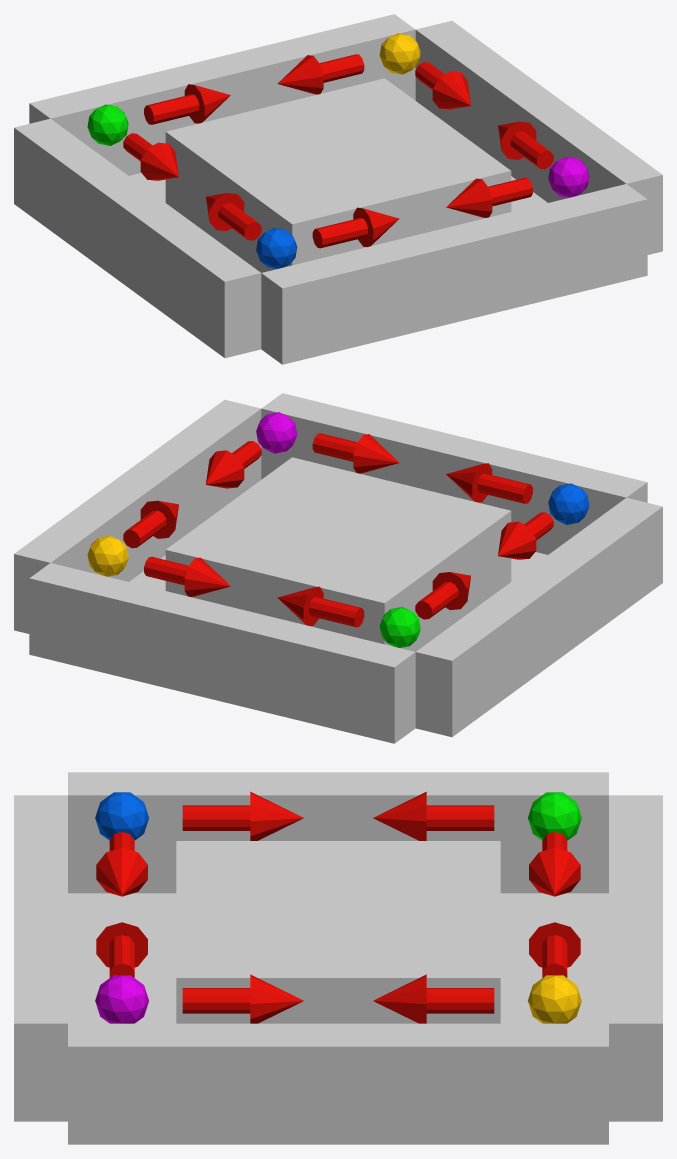
Rendered from testRoom.glb.
The picture shows the model from 3 angles, top to bottom: view 1: azimuth 30°, elevation 25°; view 2: azimuth 150°, elevation 25°; view 3: azimuth 270°, elevation 25°; orthographic projection. The views are drawn at different scales.
Visible parts, largest first — view 1: Cube.001, YellowToGreen, BlueToPink, GreenToYellow, PinkToBlue, BlueToGreen, YellowToPink, GreenToBlue, PinkToYellow, roomBlue, roomGreen, roomYellow (+1 smaller); view 2: Cube.001, PinkToBlue, GreenToYellow, BlueToPink, YellowToGreen, GreenToBlue, PinkToYellow, BlueToGreen, YellowToPink, roomBlue, roomGreen, roomPink (+1 smaller); view 3: Cube.001, BlueToGreen, YellowToPink, GreenToBlue, PinkToYellow, BlueToPink, GreenToYellow, YellowToGreen, PinkToBlue, roomYellow, roomPink, roomBlue (+1 smaller).
Part boxes in pixels (left/top/right/bottom): Cube.001: left=14, top=14, right=662, bottom=364; YellowToGreen: left=277, top=54, right=364, bottom=94; BlueToPink: left=312, top=207, right=399, bottom=248; GreenToYellow: left=144, top=84, right=230, bottom=124; PinkToBlue: left=446, top=177, right=532, bottom=217; BlueToGreen: left=206, top=193, right=261, bottom=240; YellowToPink: left=415, top=62, right=471, bottom=109; GreenToBlue: left=123, top=133, right=178, bottom=180; PinkToYellow: left=498, top=121, right=553, bottom=169; roomBlue: left=256, top=228, right=297, bottom=268; roomGreen: left=87, top=104, right=128, bottom=145; roomYellow: left=379, top=33, right=420, bottom=74; Cube.001: left=14, top=393, right=662, bottom=743; PinkToBlue: left=312, top=433, right=399, bottom=473; GreenToYellow: left=277, top=586, right=364, bottom=627; BlueToPink: left=446, top=463, right=532, bottom=503; YellowToGreen: left=144, top=556, right=230, bottom=596; GreenToBlue: left=415, top=572, right=470, bottom=619; PinkToYellow: left=205, top=441, right=261, bottom=488; BlueToGreen: left=498, top=512, right=553, bottom=559; YellowToPink: left=123, top=500, right=178, bottom=548; roomBlue: left=548, top=483, right=589, bottom=524; roomGreen: left=379, top=607, right=420, bottom=647; roomPink: left=256, top=412, right=297, bottom=453; Cube.001: left=14, top=772, right=662, bottom=1144; BlueToGreen: left=182, top=791, right=303, bottom=840; YellowToPink: left=373, top=974, right=494, bottom=1023; GreenToBlue: left=373, top=791, right=494, bottom=840; PinkToYellow: left=182, top=974, right=303, bottom=1023; BlueToPink: left=96, top=832, right=147, bottom=896; GreenToYellow: left=529, top=832, right=580, bottom=896; YellowToGreen: left=529, top=922, right=580, bottom=977; PinkToBlue: left=96, top=922, right=147, bottom=977; roomYellow: left=528, top=975, right=581, bottom=1023; roomPink: left=95, top=975, right=148, bottom=1023; roomBlue: left=95, top=792, right=148, bottom=840.
Bounding box in the file's own units: 12 × 3 × 12.
